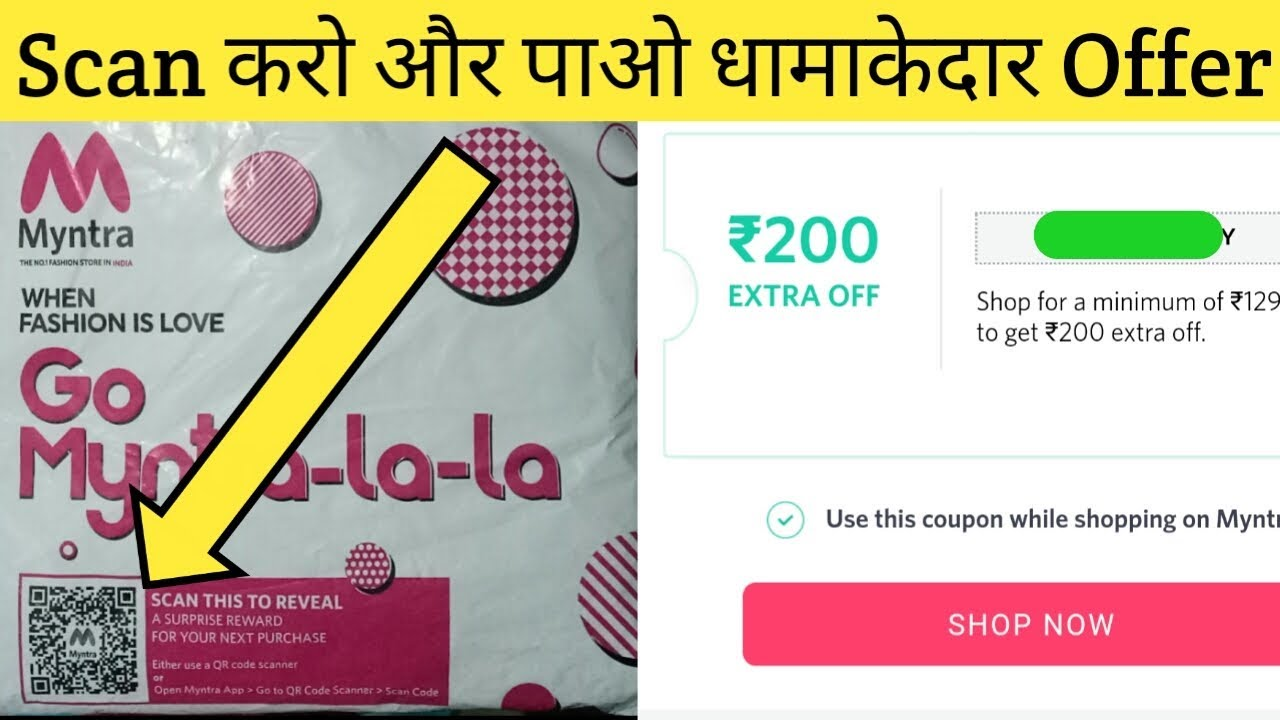qr_code: (26, 571, 148, 708)
